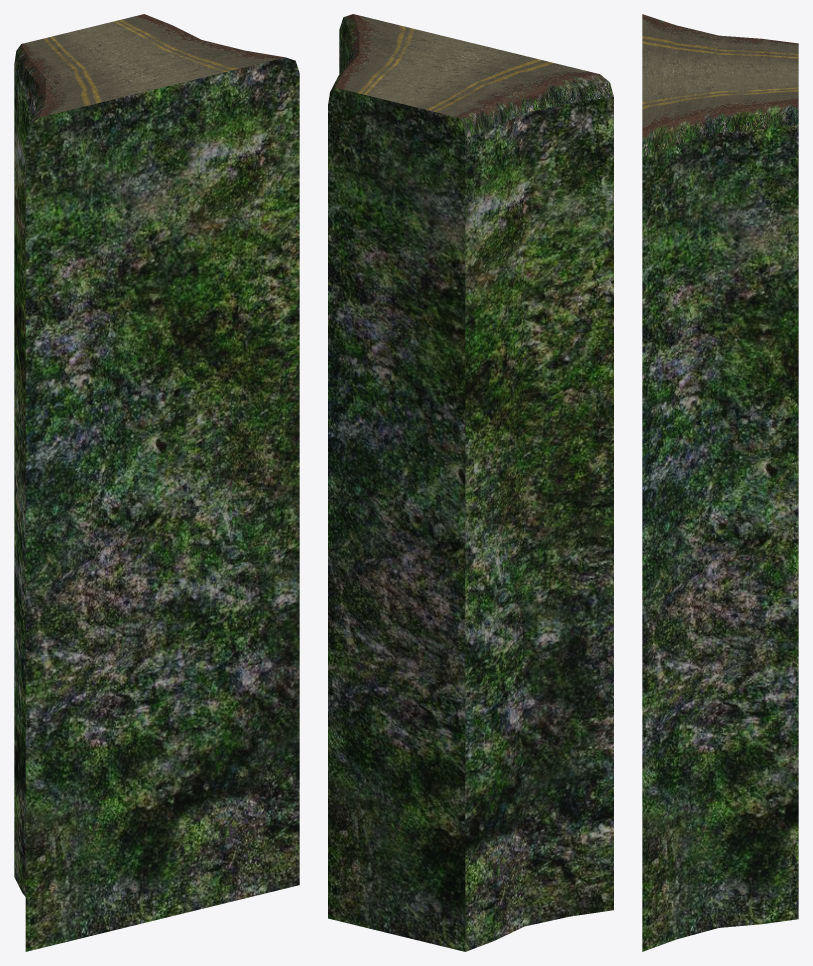
The model's file is Getting thin from center.fbx.
3 views of the same model, side by side, from view 1: azimuth 30°, elevation 25°; view 2: azimuth 150°, elevation 25°; view 3: azimuth 270°, elevation 25° (orthographic). The views are drawn at different scales.
Parts seen in each view (by area): view 1: Getting thin from center; view 2: Getting thin from center; view 3: Getting thin from center.
Part boxes in pixels (x1=…): Getting thin from center: x1=14, y1=14, x2=299, y2=951; Getting thin from center: x1=328, y1=14, x2=613, y2=951; Getting thin from center: x1=642, y1=14, x2=798, y2=951.
Bounding box in the file's own units: 68.3 × 198 × 34.46.
